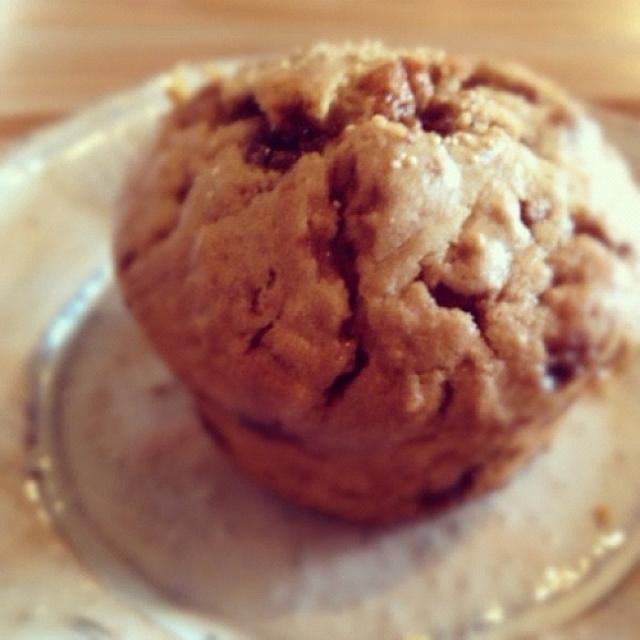炸货点心: (101, 32, 635, 520)
面包点心: (101, 32, 635, 520)
